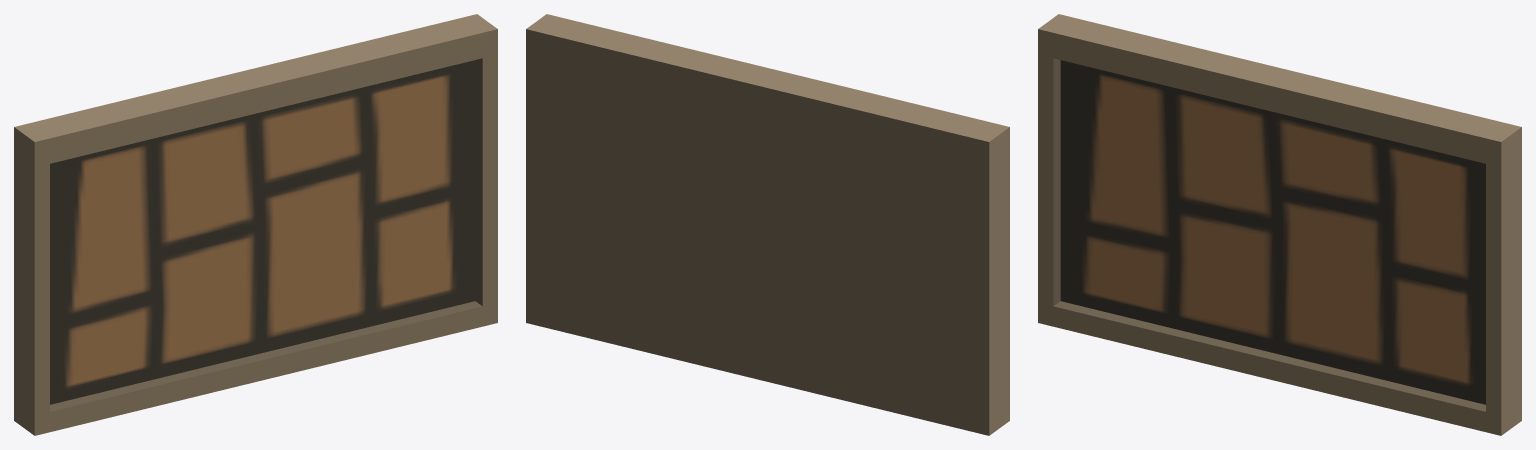
The model's file is Window_B13.fbx.
3 renders of one model, left to right at view 1: azimuth 30°, elevation 25°; view 2: azimuth 150°, elevation 25°; view 3: azimuth 330°, elevation 25°, orthographic.
Parts seen in each view (by area): view 1: Window_B13; view 2: Window_B13; view 3: Window_B13.
Part boxes in pixels (x1,y1,x2,y2): Window_B13: (14, 14, 497, 435); Window_B13: (526, 14, 1009, 435); Window_B13: (1038, 14, 1521, 435).
Size of the model in its own units: 375 by 227 by 28.95.
